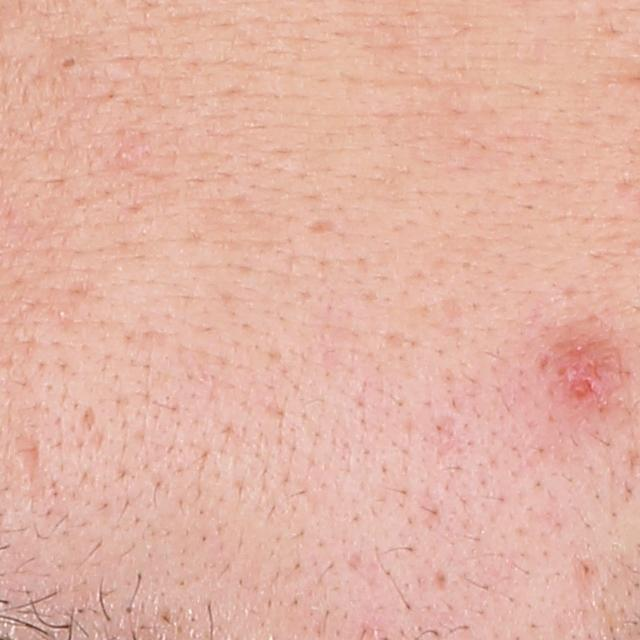atrophic_scar: (7, 427, 49, 490), (302, 213, 343, 238)
comedo: (56, 53, 81, 70), (116, 148, 130, 165)
papule: (550, 336, 625, 403)
